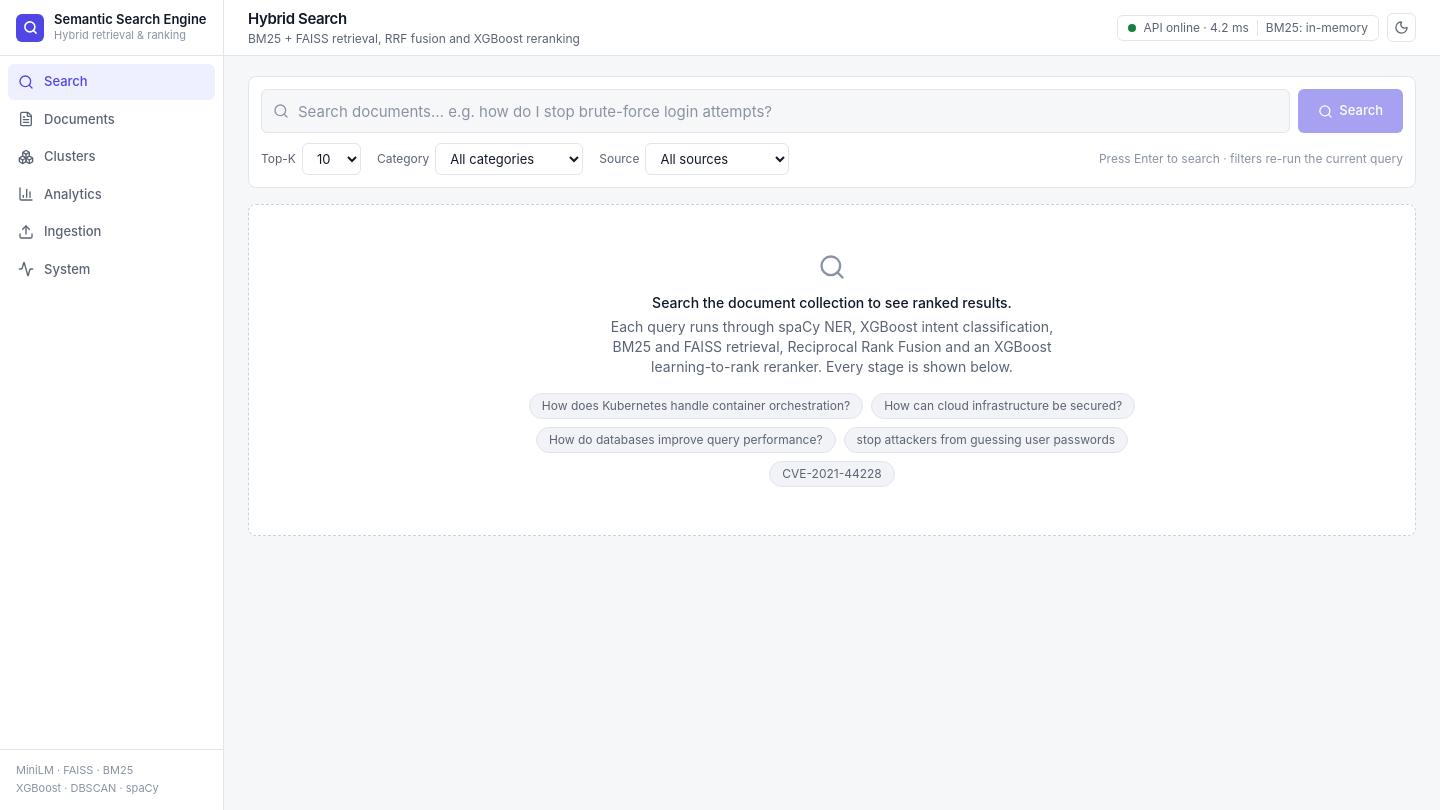
Test: Search page › accepts a new query while a previous search is still in flight
Type "first query" into the field named "Search query".
click(776, 111); type("first query")  # box 261,89 -> 1290,133
Then press Enter
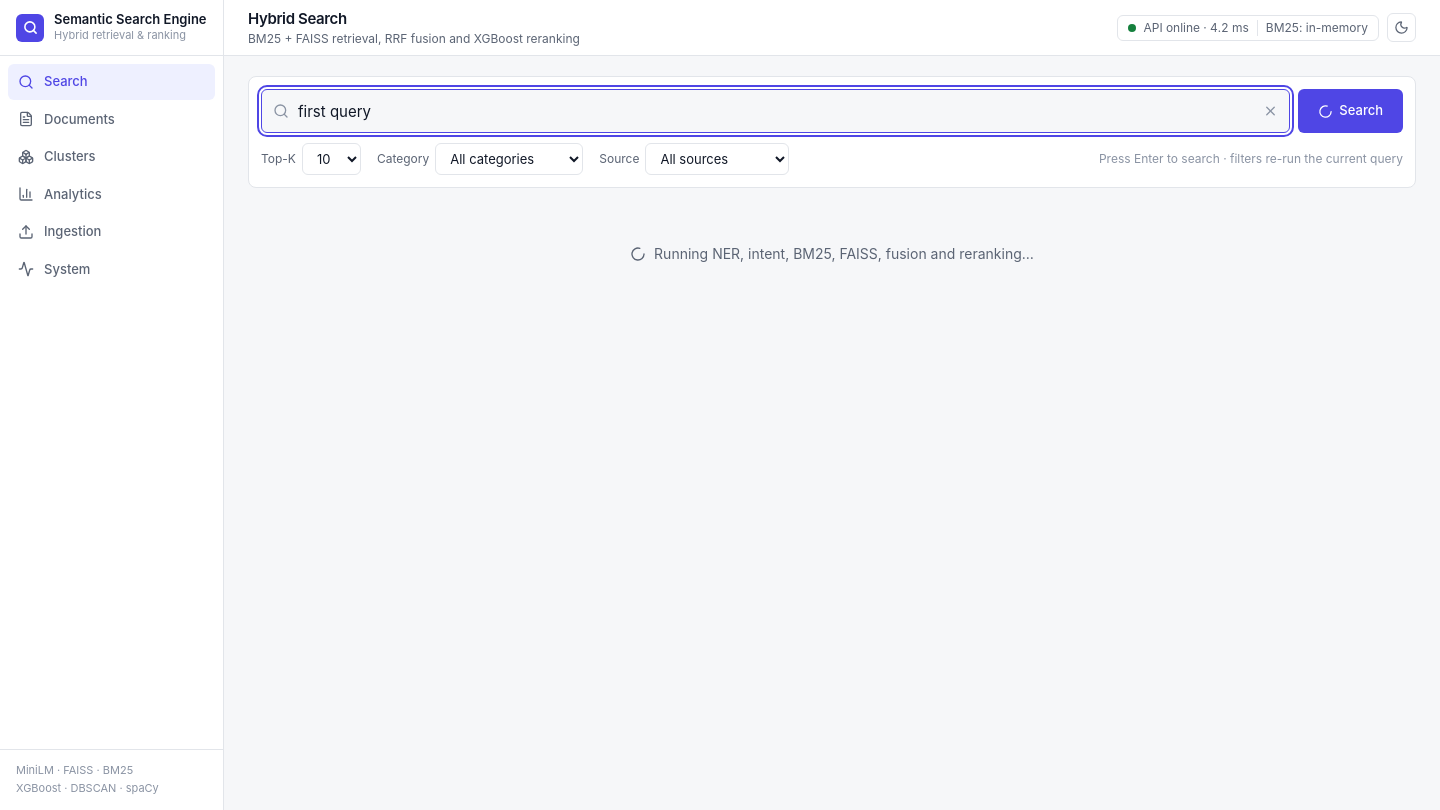
Replace the text in the field named "Search query" with "second query" at (776, 111), box 261,89 -> 1290,133
Then press Enter
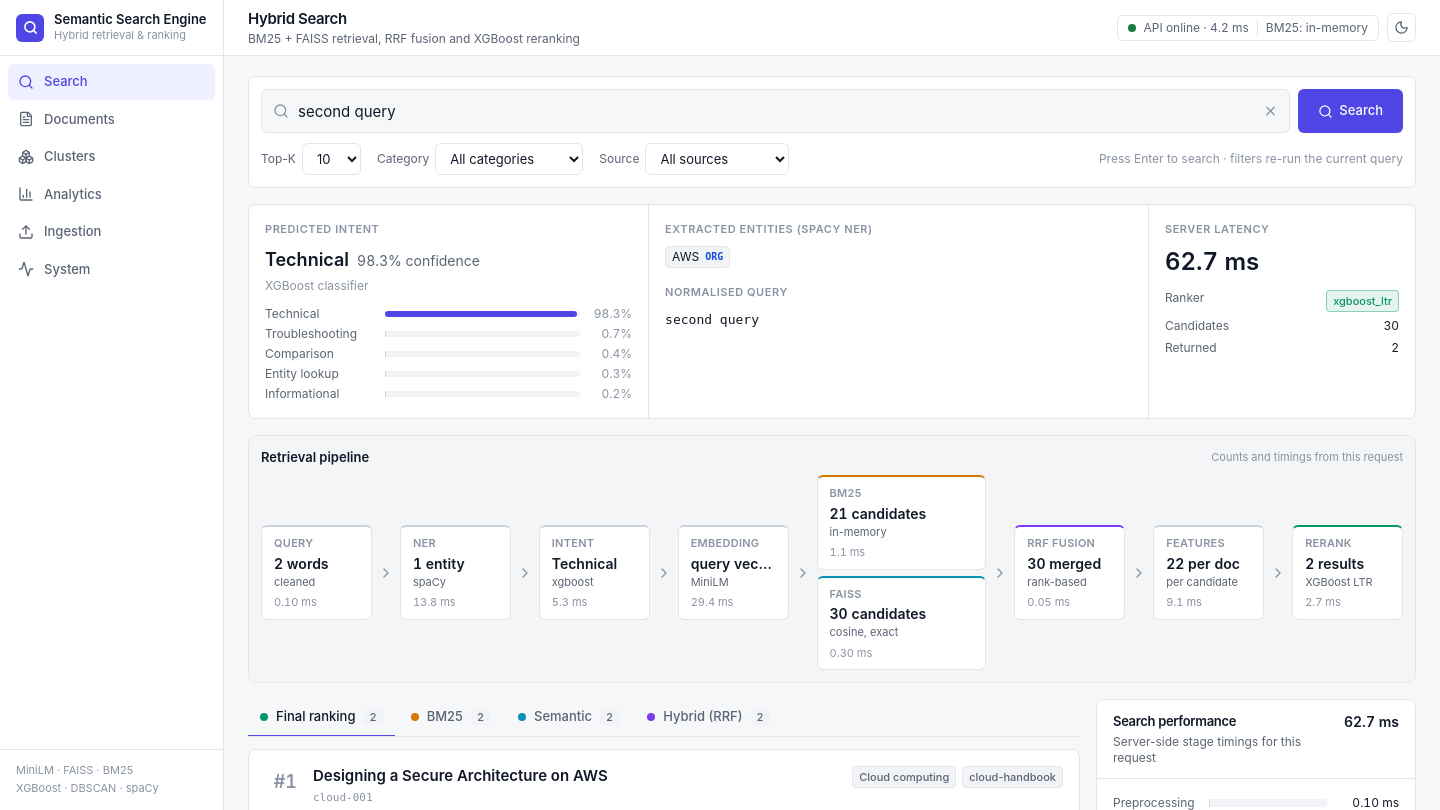
expect the text "second query" is shown: met, box 665,312 -> 759,327
